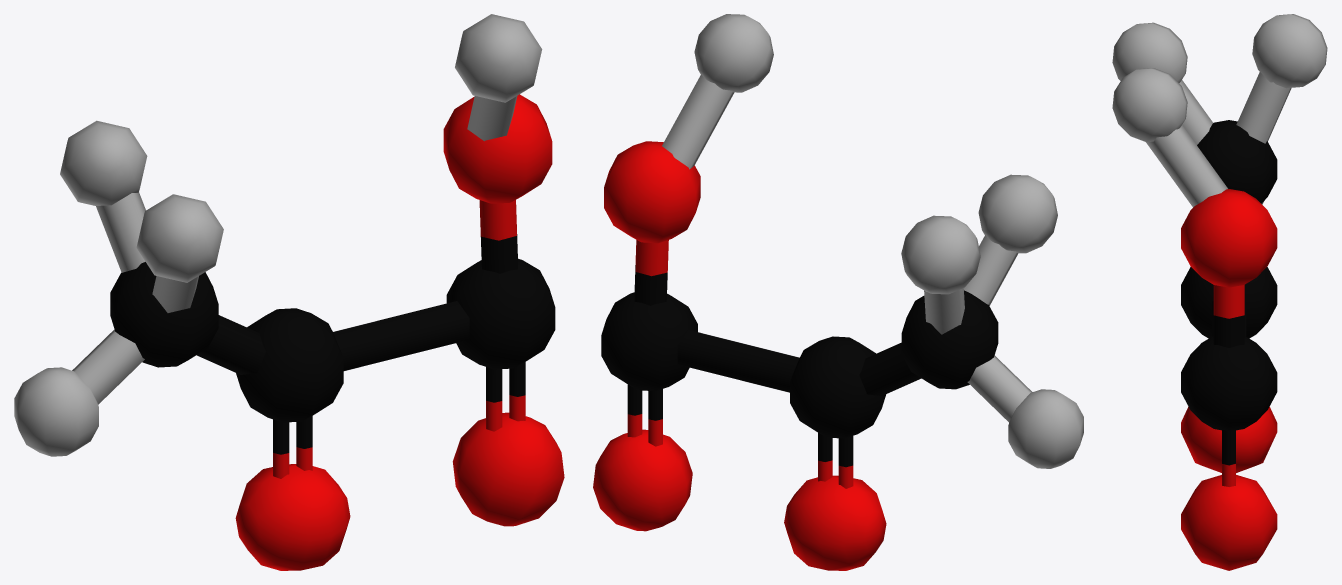
The model's file is pyruvic acid.fbx.
3 renders of one model, left to right at view 1: azimuth 30°, elevation 25°; view 2: azimuth 150°, elevation 25°; view 3: azimuth 270°, elevation 25°, orthographic. The views are drawn at different scales.
Visible parts, largest first — view 1: pSphere7, pSphere6, pSphere2, pSphere3, pSphere4, pSphere1, pSphere5, pSphere9, pSphere10, pSphere8, pCylinder2, pCylinder3 (+9 smaller); view 2: pSphere7, pSphere6, pSphere4, pSphere2, pSphere3, pSphere1, pSphere8, pSphere10, pSphere9, pSphere5, pCylinder2, pCylinder12 (+9 smaller); view 3: pSphere4, pSphere3, pSphere7, pSphere8, pSphere10, pSphere1, pSphere6, pSphere2, pSphere9, pCylinder12, pCylinder9, pCylinder6 (+2 smaller).
Part boxes in pixels (x1,y1,x2,y2): pSphere7: (452,412,564,526); pSphere6: (235,464,350,570); pSphere2: (236,308,343,422); pSphere3: (446,258,555,369); pSphere4: (443,94,552,203); pSphere1: (110,262,218,367); pSphere5: (14,367,98,456); pSphere9: (136,194,223,282); pSphere10: (455,14,542,102); pSphere8: (60,120,147,205); pCylinder2: (333,301,469,370); pCylinder3: (72,329,144,404); pSphere7: (593,429,692,531); pSphere6: (784,475,886,570); pSphere4: (604,141,700,243); pSphere2: (790,336,885,438); pSphere3: (601,292,697,391); pSphere1: (901,290,998,389); pSphere8: (901,215,980,294); pSphere10: (694,14,773,92); pSphere9: (978,174,1057,253); pSphere5: (1008,389,1083,468); pCylinder2: (677,330,799,392); pCylinder12: (662,74,734,169); pSphere4: (1181,189,1277,287); pSphere3: (1181,336,1277,430); pSphere7: (1181,475,1277,570); pSphere8: (1252,14,1327,88); pSphere10: (1112,68,1187,142); pSphere1: (1197,120,1277,203); pSphere6: (1181,406,1277,472); pSphere2: (1181,267,1277,338); pSphere9: (1112,22,1187,82); pCylinder12: (1146,125,1227,207); pCylinder9: (1236,72,1291,143); pCylinder6: (1213,285,1244,347).
Size of the model in its own units: 262 by 256 by 105.
